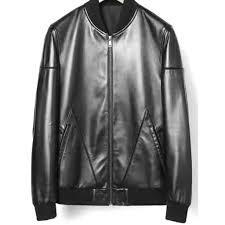jacket: (30, 0, 192, 220)
